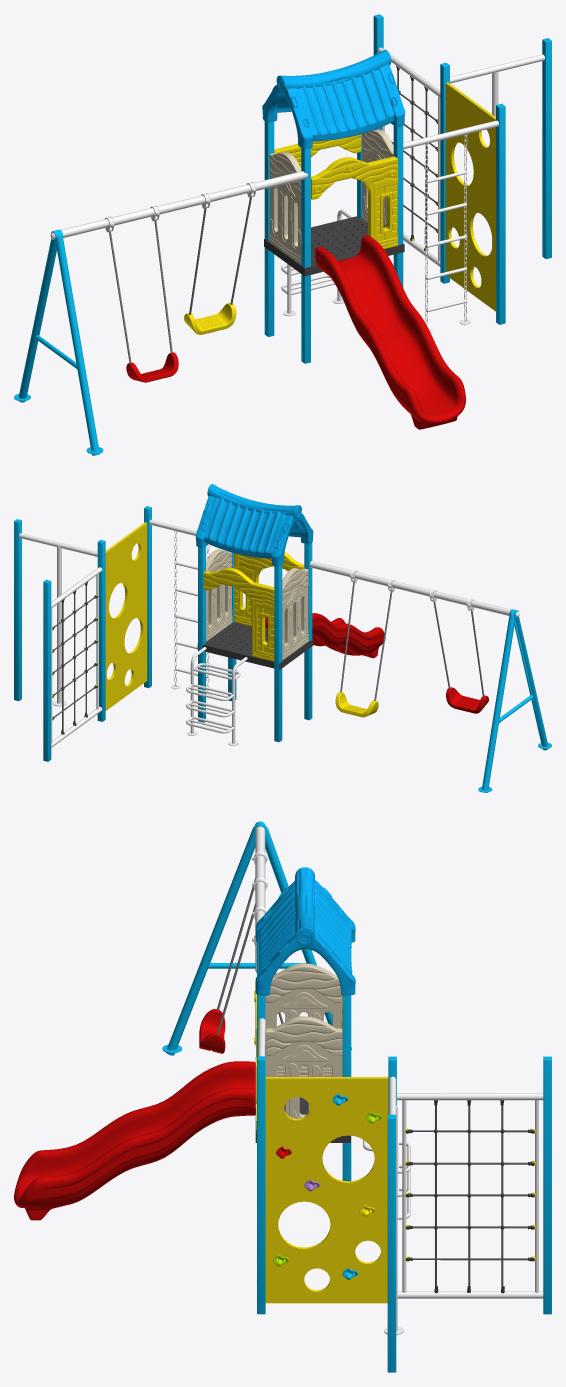
3 views of the same model, one above another, from view 1: azimuth 30°, elevation 25°; view 2: azimuth 150°, elevation 25°; view 3: azimuth 270°, elevation 25° (orthographic). The views are drawn at different scales.
Parts seen in each view (by area): view 1: Box236, Rectangle051, Box234, Line72, Box227, ChamferBox188, ChamferBox191, ______, Box219 (×2), ChamferBox057, Rectangle007, ChamferBox060 (+13 smaller); view 2: Rectangle051, Box235, Line72, Box236, Box223, ChamferBox190, ChamferBox060, ______, ChamferBox191, Box219 (×2), ChamferBox189, ChamferBox057 (+15 smaller); view 3: Rectangle051, Box236, Line72, Box219 (×2), ChamferBox191, ChamferBox190, ChamferBox188, Box216, Box1013, Box235, Box234, Rectangle05 (+9 smaller).
Boxes of the visible parts, left/top/right/bottom form: Box236: left=315, top=235, right=465, bottom=429; Rectangle051: left=445, top=82, right=495, bottom=311; Box234: left=297, top=69, right=394, bottom=141; Line72: left=18, top=230, right=99, bottom=455; Box227: left=311, top=156, right=397, bottom=248; ChamferBox188: left=496, top=104, right=505, bottom=324; ChamferBox191: left=542, top=38, right=551, bottom=258; ______: left=50, top=171, right=308, bottom=239; Box219 (×2): left=262, top=64, right=405, bottom=148; ChamferBox057: left=301, top=148, right=310, bottom=363; Rectangle007: left=265, top=216, right=403, bottom=268; ChamferBox060: left=264, top=121, right=274, bottom=336; Rectangle051: left=105, top=522, right=147, bottom=710; Box235: left=204, top=497, right=285, bottom=558; Line72: left=482, top=609, right=548, bottom=792; Box236: left=265, top=613, right=385, bottom=658; Box223: left=203, top=567, right=274, bottom=661; ChamferBox190: left=43, top=579, right=51, bottom=761; ChamferBox060: left=274, top=565, right=282, bottom=742; ______: left=309, top=561, right=519, bottom=617; ChamferBox191: left=14, top=519, right=21, bottom=701; Box219 (×2): left=195, top=495, right=313, bottom=566; ChamferBox189: left=97, top=539, right=105, bottom=721; ChamferBox057: left=304, top=542, right=312, bottom=720; Rectangle051: left=265, top=1077, right=388, bottom=1303; Box236: left=14, top=1061, right=255, bottom=1220; Line72: left=166, top=824, right=332, bottom=1055; Box219 (×2): left=255, top=880, right=355, bottom=995; ChamferBox191: left=387, top=1114, right=396, bottom=1372; ChamferBox190: left=543, top=1056, right=551, bottom=1314; ChamferBox188: left=257, top=1056, right=265, bottom=1314; Box216: left=265, top=1016, right=342, bottom=1055; Box1013: left=265, top=963, right=341, bottom=1002; Box235: left=313, top=886, right=352, bottom=973; Box234: left=258, top=889, right=295, bottom=973; Rectangle05: left=265, top=1041, right=342, bottom=1118.
Size of the model in its own units: 15.42 by 7.47 by 11.03.
